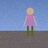person: (24, 8, 36, 36)
